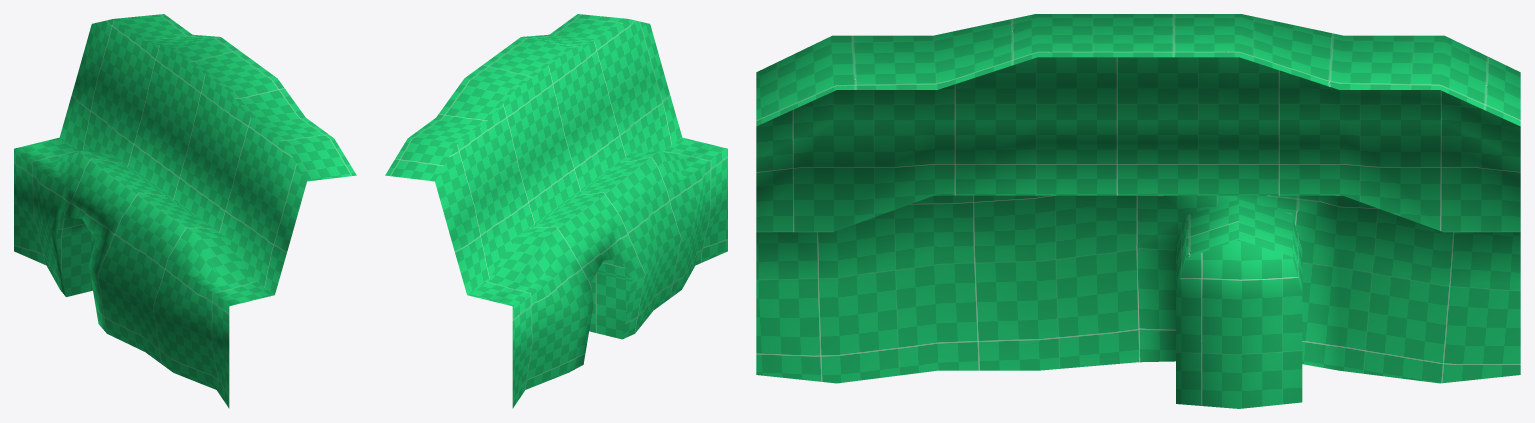
The model's file is SM_mountain_tunnel_mirror.fbx.
3 views of the same model, side by side, from view 1: azimuth 30°, elevation 25°; view 2: azimuth 150°, elevation 25°; view 3: azimuth 270°, elevation 25° (orthographic). The views are drawn at different scales.
Visible parts, largest first — view 1: Cube.050; view 2: Cube.050; view 3: Cube.050.
Boxes of the visible parts, bbox=[...] form: Cube.050: bbox=[14, 14, 356, 408]; Cube.050: bbox=[385, 14, 727, 408]; Cube.050: bbox=[756, 14, 1520, 408].
Bounding box in the file's own units: 1550 × 2350 × 3800.
